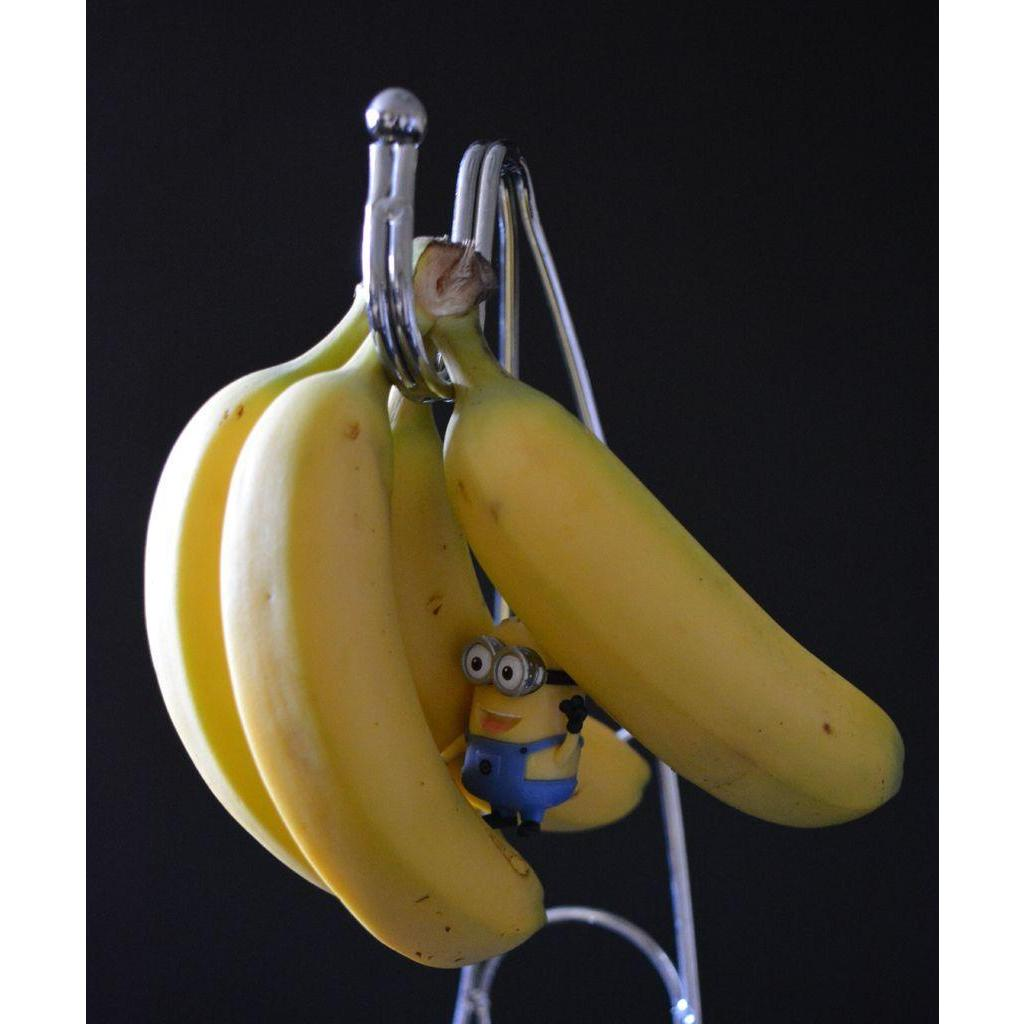banana: (442, 324, 907, 834), (220, 370, 547, 973)
